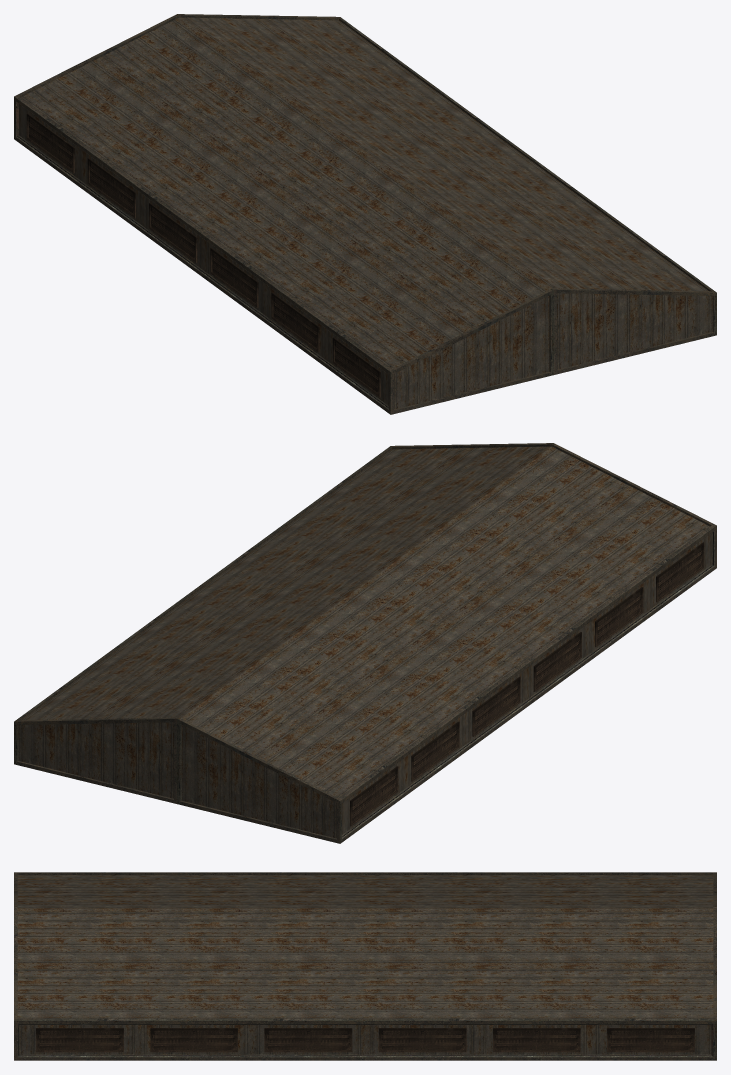
The model's file is roof_mh_4_b_4.obj.
The picture shows the model from 3 angles, top to bottom: view 1: azimuth 30°, elevation 25°; view 2: azimuth 150°, elevation 25°; view 3: azimuth 270°, elevation 25°; orthographic projection. The views are drawn at different scales.
Visible parts, largest first — view 1: roof_mh_4_b_4; view 2: roof_mh_4_b_4; view 3: roof_mh_4_b_4.
Part boxes in pixels (bbox=[...]): roof_mh_4_b_4: bbox=[14, 14, 716, 414]; roof_mh_4_b_4: bbox=[14, 443, 716, 843]; roof_mh_4_b_4: bbox=[14, 872, 716, 1060].
Bounding box in the file's own units: 8 × 2 × 16.
